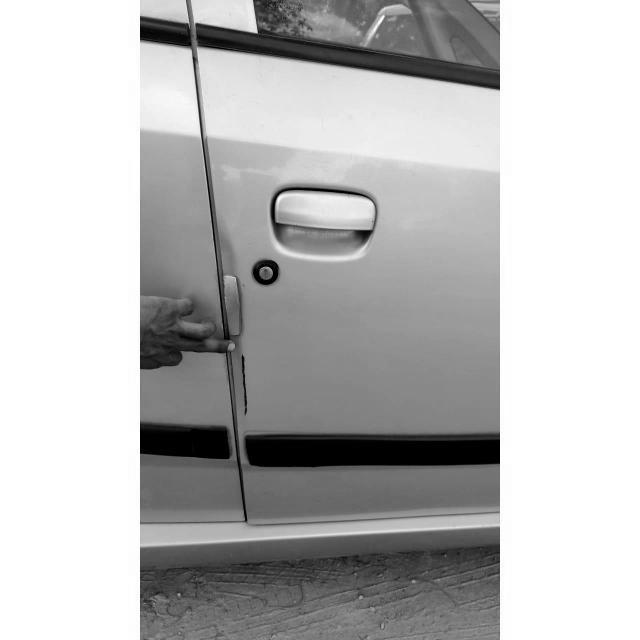doorouter-dent: (216, 56, 500, 521)
